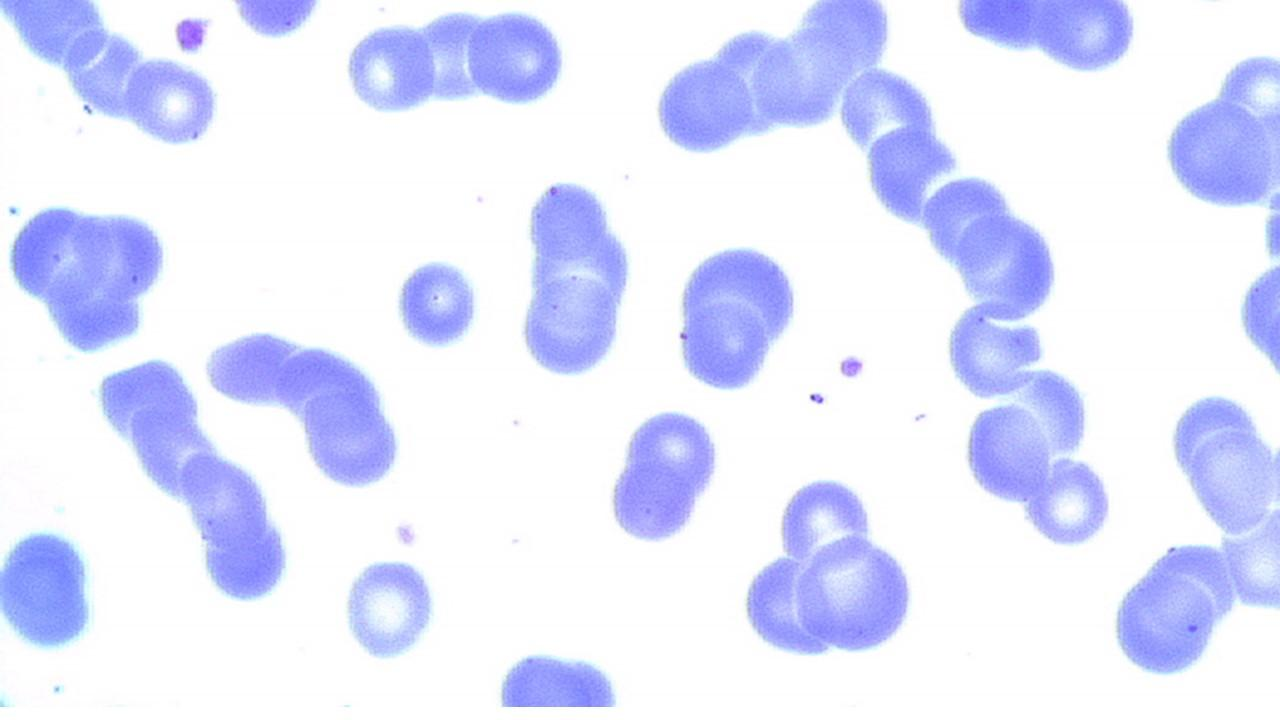Platelets: (122, 55, 224, 149), (391, 253, 482, 353), (169, 10, 216, 59), (391, 517, 422, 553), (834, 351, 868, 383), (807, 389, 830, 408)
RBC: (122, 53, 222, 151)
WBC: (584, 0, 1146, 720), (77, 339, 309, 620), (946, 312, 1124, 563), (189, 308, 412, 508), (725, 464, 927, 673), (1, 192, 178, 361), (1164, 374, 1280, 630), (510, 172, 642, 383), (1155, 32, 1280, 249), (1102, 532, 1246, 692), (668, 235, 804, 398), (603, 401, 726, 550), (940, 3, 1158, 82), (793, 532, 918, 656), (0, 520, 101, 658), (338, 550, 444, 666), (463, 3, 575, 110), (114, 49, 229, 149), (340, 16, 441, 117), (390, 249, 486, 353), (486, 644, 632, 710), (1233, 243, 1280, 399), (224, 1, 330, 44)
